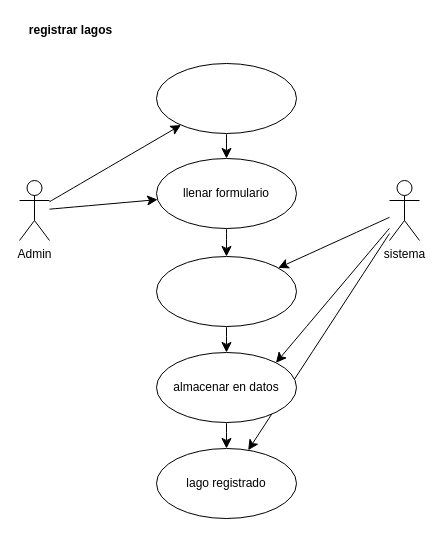
Some shapes in this 442 by 536 pixel diagram are drawn without their labels. The centre of each missing label's shape, as x and y in pixels:
"modulo registrar" goes at point 226,98.
"validar datos" goes at point 226,291.
